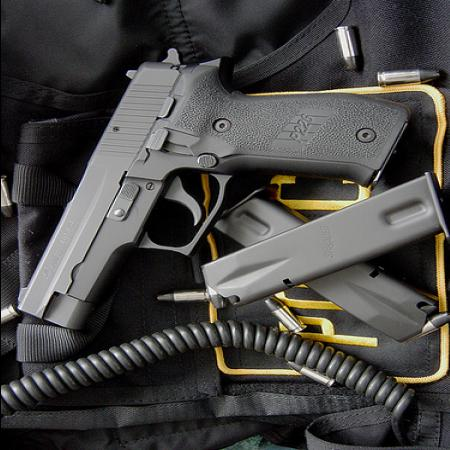Pistol: (12, 53, 414, 334)
